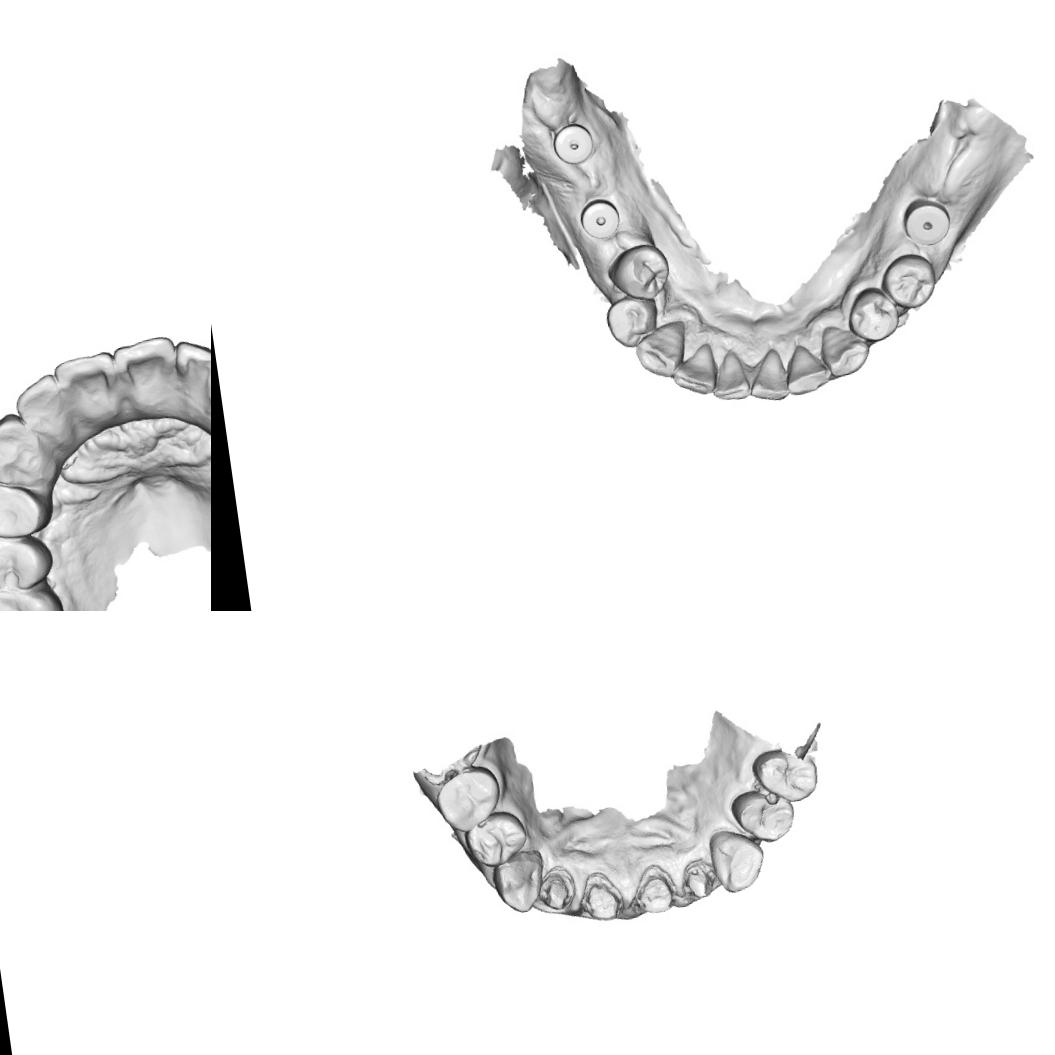canine: (706, 822, 770, 896), (488, 846, 550, 918), (630, 316, 693, 384), (818, 318, 874, 380), (0, 410, 41, 481)
crown: (629, 860, 681, 918), (575, 866, 626, 925), (534, 863, 579, 916), (678, 855, 720, 902)
implant: (900, 194, 954, 250), (548, 118, 599, 168), (575, 195, 625, 244)
incisor: (109, 332, 184, 402), (53, 350, 120, 410), (10, 372, 68, 432), (667, 340, 722, 402), (740, 344, 792, 406), (781, 338, 833, 398), (706, 346, 752, 404), (173, 334, 211, 400)
molar: (0, 577, 68, 611)
premolar: (431, 763, 506, 836), (750, 742, 824, 808), (604, 240, 676, 306), (728, 784, 798, 848), (461, 808, 531, 871), (876, 249, 943, 314), (841, 282, 902, 347), (601, 290, 661, 352), (0, 526, 54, 593), (0, 476, 43, 543)
